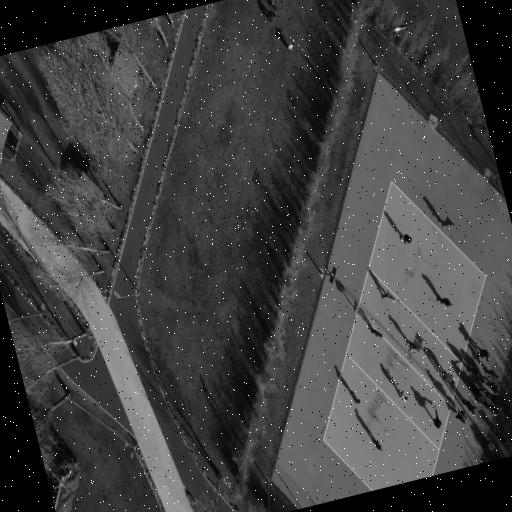person: (485, 389, 499, 405), (474, 387, 486, 404), (463, 399, 476, 414), (433, 406, 442, 427), (484, 367, 499, 379), (438, 218, 454, 228), (478, 347, 490, 360), (498, 432, 509, 446), (488, 381, 499, 394), (382, 290, 395, 301), (406, 340, 419, 351), (444, 372, 455, 384), (370, 326, 382, 337), (489, 404, 501, 415), (456, 409, 466, 422), (469, 367, 480, 378), (477, 373, 489, 383), (350, 390, 360, 402), (486, 438, 494, 451), (267, 9, 275, 22), (439, 297, 450, 306), (400, 233, 411, 242), (398, 390, 407, 401), (287, 39, 295, 50), (374, 439, 381, 450), (318, 266, 325, 277), (353, 301, 358, 313), (271, 0, 276, 9)
